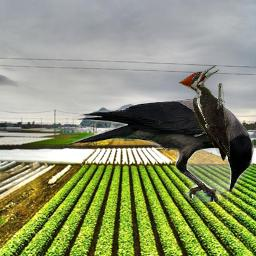Crow: (72, 97, 254, 202)
Woodpecker: (178, 65, 230, 161)
